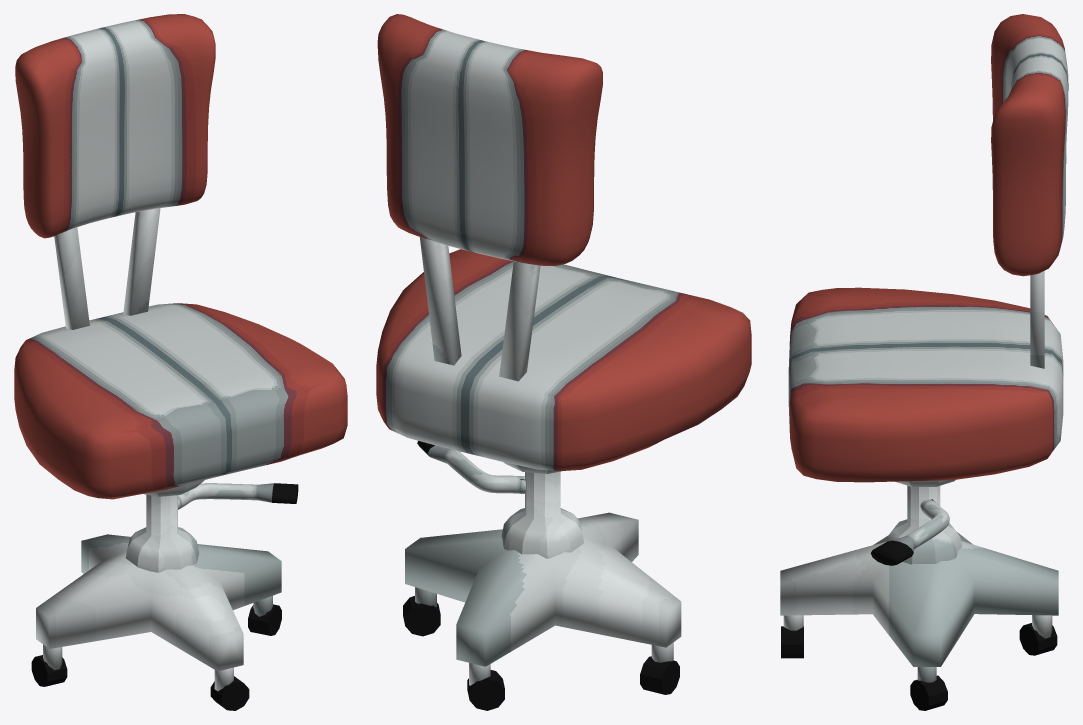
The model's file is Cadeira de Escritório.fbx.
3 views of the same model, side by side, from view 1: azimuth 30°, elevation 25°; view 2: azimuth 150°, elevation 25°; view 3: azimuth 270°, elevation 25° (orthographic). The views are drawn at different scales.
Parts seen in each view (by area): view 1: Cube.001, Cube.002, Plane, Cube.003, Cylinder, Cylinder.001, BézierCurve, Cylinder.002, BézierCurve.001; view 2: Cube.001, Cube.002, Plane, Cube.003, Cylinder, Cylinder.001, BézierCurve, Cylinder.002; view 3: Cube.001, Plane, Cube.002, Cylinder, Cylinder.001, Cube.003, BézierCurve, Cylinder.002, BézierCurve.001.
Boxes of the visible parts, x1,y1,x2,y2 form: Cube.001: [14, 303, 347, 499]; Cube.002: [15, 14, 215, 238]; Plane: [36, 534, 281, 671]; Cube.003: [54, 208, 160, 329]; Cylinder: [125, 480, 204, 572]; Cylinder.001: [31, 604, 281, 710]; BézierCurve: [178, 483, 273, 509]; Cylinder.002: [43, 595, 272, 691]; BézierCurve.001: [272, 483, 298, 503]; Cube.001: [376, 249, 751, 471]; Cube.002: [377, 14, 602, 266]; Plane: [405, 512, 681, 666]; Cube.003: [419, 237, 540, 381]; Cylinder: [501, 462, 583, 558]; Cylinder.001: [403, 596, 679, 710]; BézierCurve: [427, 445, 525, 494]; Cylinder.002: [415, 587, 673, 685]; Cube.001: [788, 287, 1063, 482]; Plane: [780, 531, 1058, 666]; Cube.002: [991, 14, 1068, 276]; Cylinder: [886, 480, 961, 564]; Cylinder.001: [781, 623, 1057, 710]; Cube.003: [1030, 271, 1044, 368]; BézierCurve: [889, 499, 949, 552]; Cylinder.002: [783, 615, 1052, 682]; BézierCurve.001: [870, 540, 913, 565].
Size of the model in its own units: 319 by 659 by 286.
3 materials, 2 textured.
